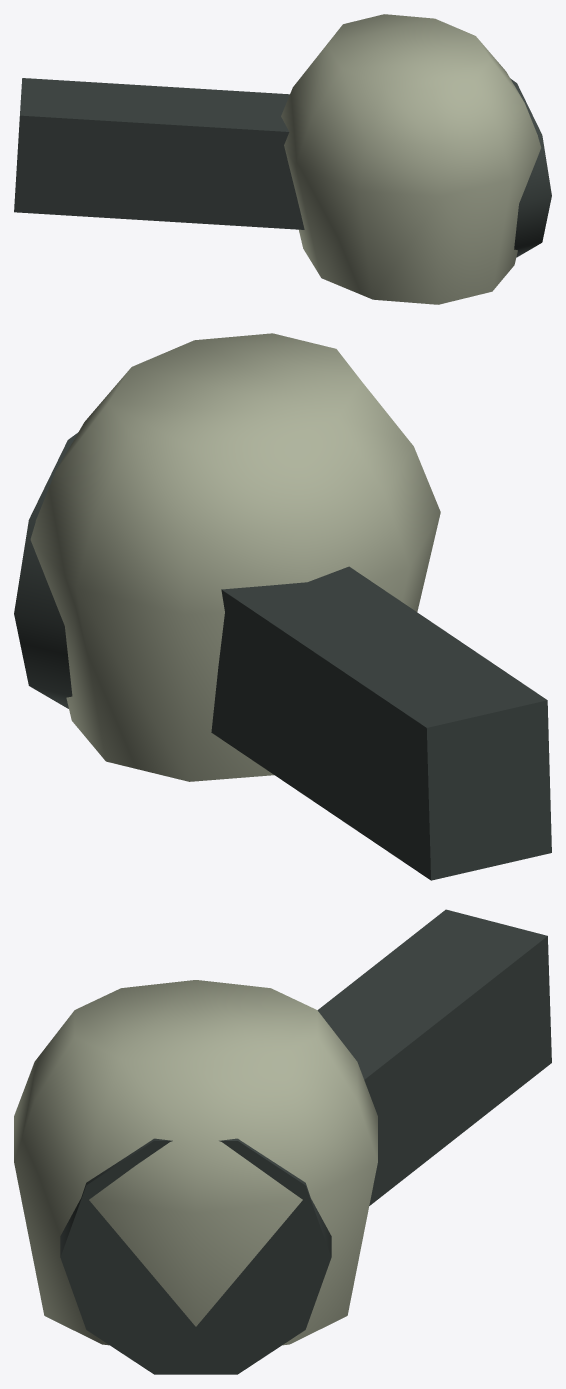
The model's file is scyther_arm_left.obj.
3 renders of one model, top to bottom at view 1: azimuth 30°, elevation 25°; view 2: azimuth 150°, elevation 25°; view 3: azimuth 270°, elevation 25°, orthographic. The views are drawn at different scales.
Parts seen in each view (by area): view 1: rigid_shell_002, rigid_shell_001, rigid_shell_000; view 2: rigid_shell_002, rigid_shell_001, rigid_shell_000; view 3: rigid_shell_002, rigid_shell_001, rigid_shell_000.
Boxes of the visible parts, <box> form: rigid_shell_002: <box>281,14,541,304</box>; rigid_shell_001: <box>14,78,304,229</box>; rigid_shell_000: <box>510,78,551,257</box>; rigid_shell_002: <box>30,333,440,781</box>; rigid_shell_001: <box>211,566,551,880</box>; rigid_shell_000: <box>14,432,78,708</box>; rigid_shell_002: <box>14,980,377,1345</box>; rigid_shell_001: <box>317,909,551,1205</box>; rigid_shell_000: <box>60,1138,331,1374</box>.
Size of the model in its own units: 0.4017 by 0.2008 by 0.3374.
